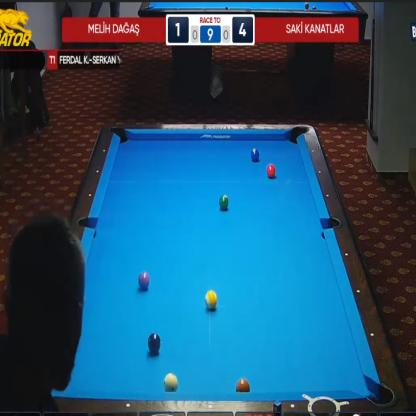Ball: (163, 372, 178, 392), (148, 332, 162, 353), (138, 271, 150, 291), (205, 290, 217, 310), (235, 378, 250, 392), (219, 194, 229, 210), (250, 147, 260, 162), (266, 164, 276, 178)
